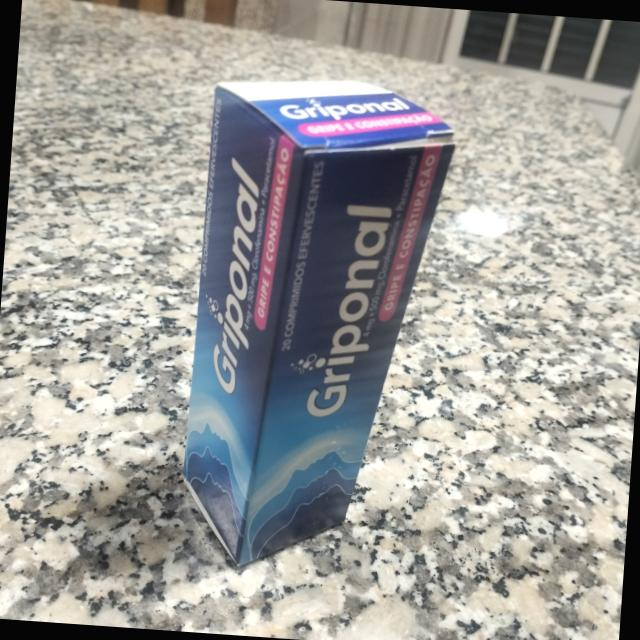box: (182, 79, 455, 566)
